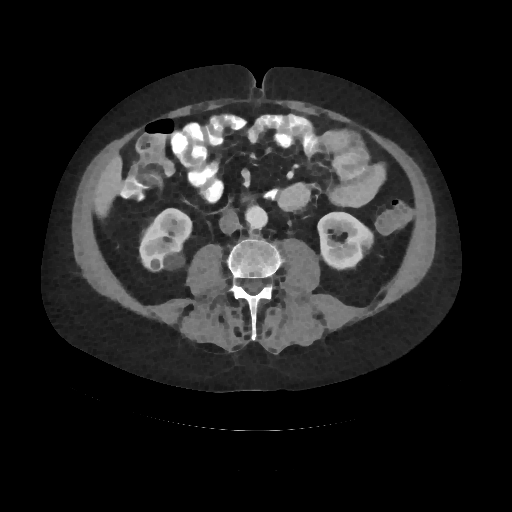Lesion: (160, 249, 187, 273)
